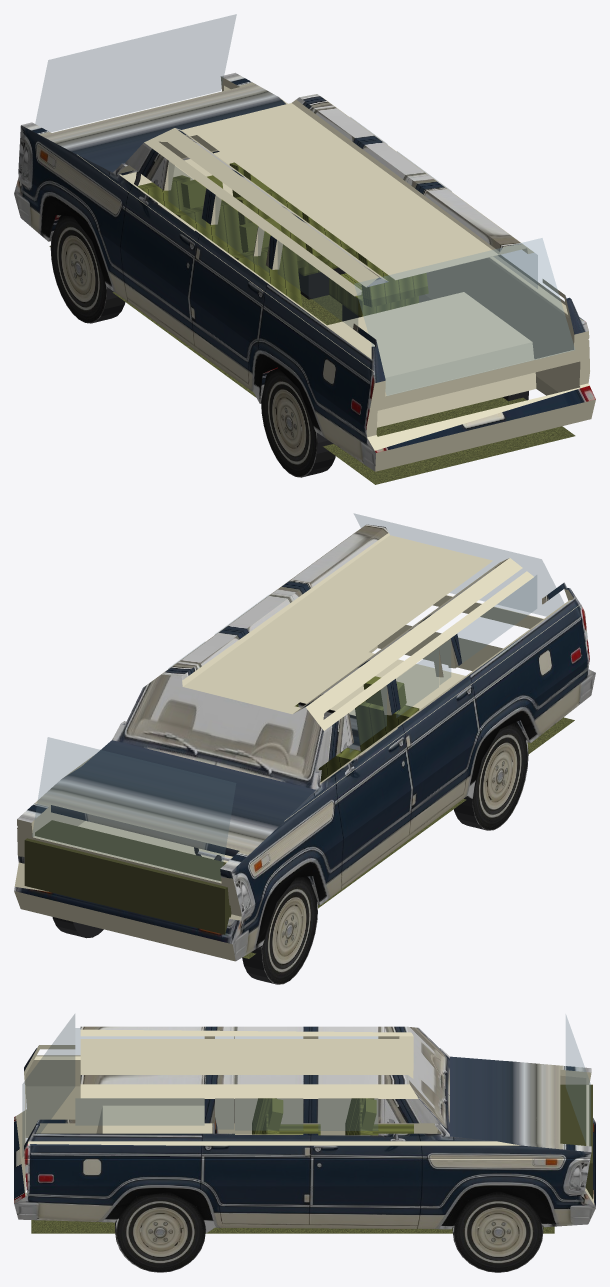
The model's file is full_size_suv.glb.
The picture shows the model from 3 angles, top to bottom: view 1: azimuth 30°, elevation 25°; view 2: azimuth 150°, elevation 25°; view 3: azimuth 270°, elevation 25°; orthographic projection. The views are drawn at different scales.
Parts seen in each view (by area): view 1: full_size_suv, full_size_suv_cabin, wheel_BL, wheel_FL; view 2: full_size_suv, full_size_suv_cabin, wheel_FL, wheel_BL; view 3: full_size_suv, full_size_suv_cabin, wheel_BR, wheel_FR.
Boxes of the visible parts, x1,y1,x2,y2 form: full_size_suv: (14, 72, 595, 471); full_size_suv_cabin: (35, 14, 575, 484); wheel_BL: (261, 368, 335, 477); wheel_FL: (50, 215, 125, 323); full_size_suv: (14, 524, 595, 961); full_size_suv_cabin: (24, 513, 574, 958); wheel_FL: (242, 876, 317, 984); wheel_BL: (454, 722, 528, 830); full_size_suv: (14, 1026, 595, 1233); full_size_suv_cabin: (22, 1014, 592, 1233); wheel_BR: (115, 1192, 205, 1272); wheel_FR: (452, 1191, 543, 1272).
Size of the model in its own units: 1.88 by 1.82 by 5.29.
12 materials, 4 textured.
